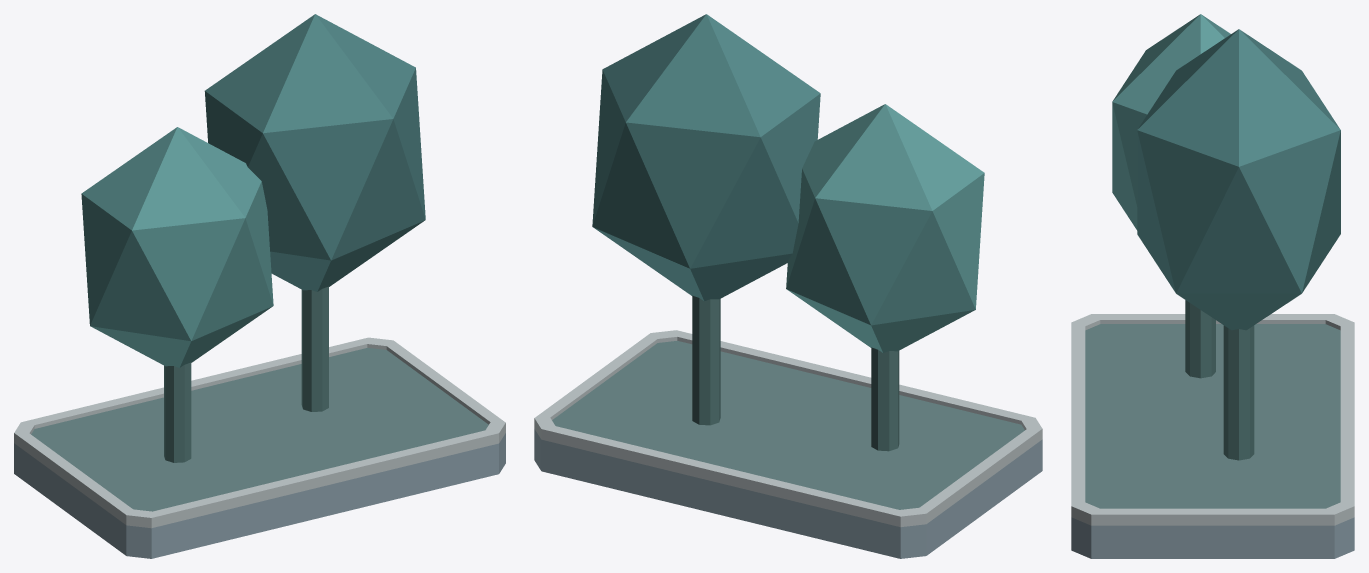
The model's file is campus_tree_cluster_v01.glb.
3 renders of one model, left to right at view 1: azimuth 30°, elevation 25°; view 2: azimuth 150°, elevation 25°; view 3: azimuth 270°, elevation 25°, orthographic. The views are drawn at different scales.
Parts seen in each view (by area): view 1: campus_tree_cluster; view 2: campus_tree_cluster; view 3: campus_tree_cluster.
Boxes of the visible parts, bbox=[...] form: campus_tree_cluster: bbox=[14, 14, 505, 558]; campus_tree_cluster: bbox=[534, 14, 1042, 558]; campus_tree_cluster: bbox=[1071, 14, 1354, 558].
Bounding box in the file's own units: 3.1 × 3.35 × 1.85.
